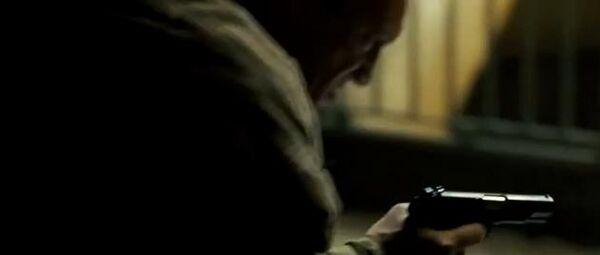Gun: (412, 188, 556, 234)
